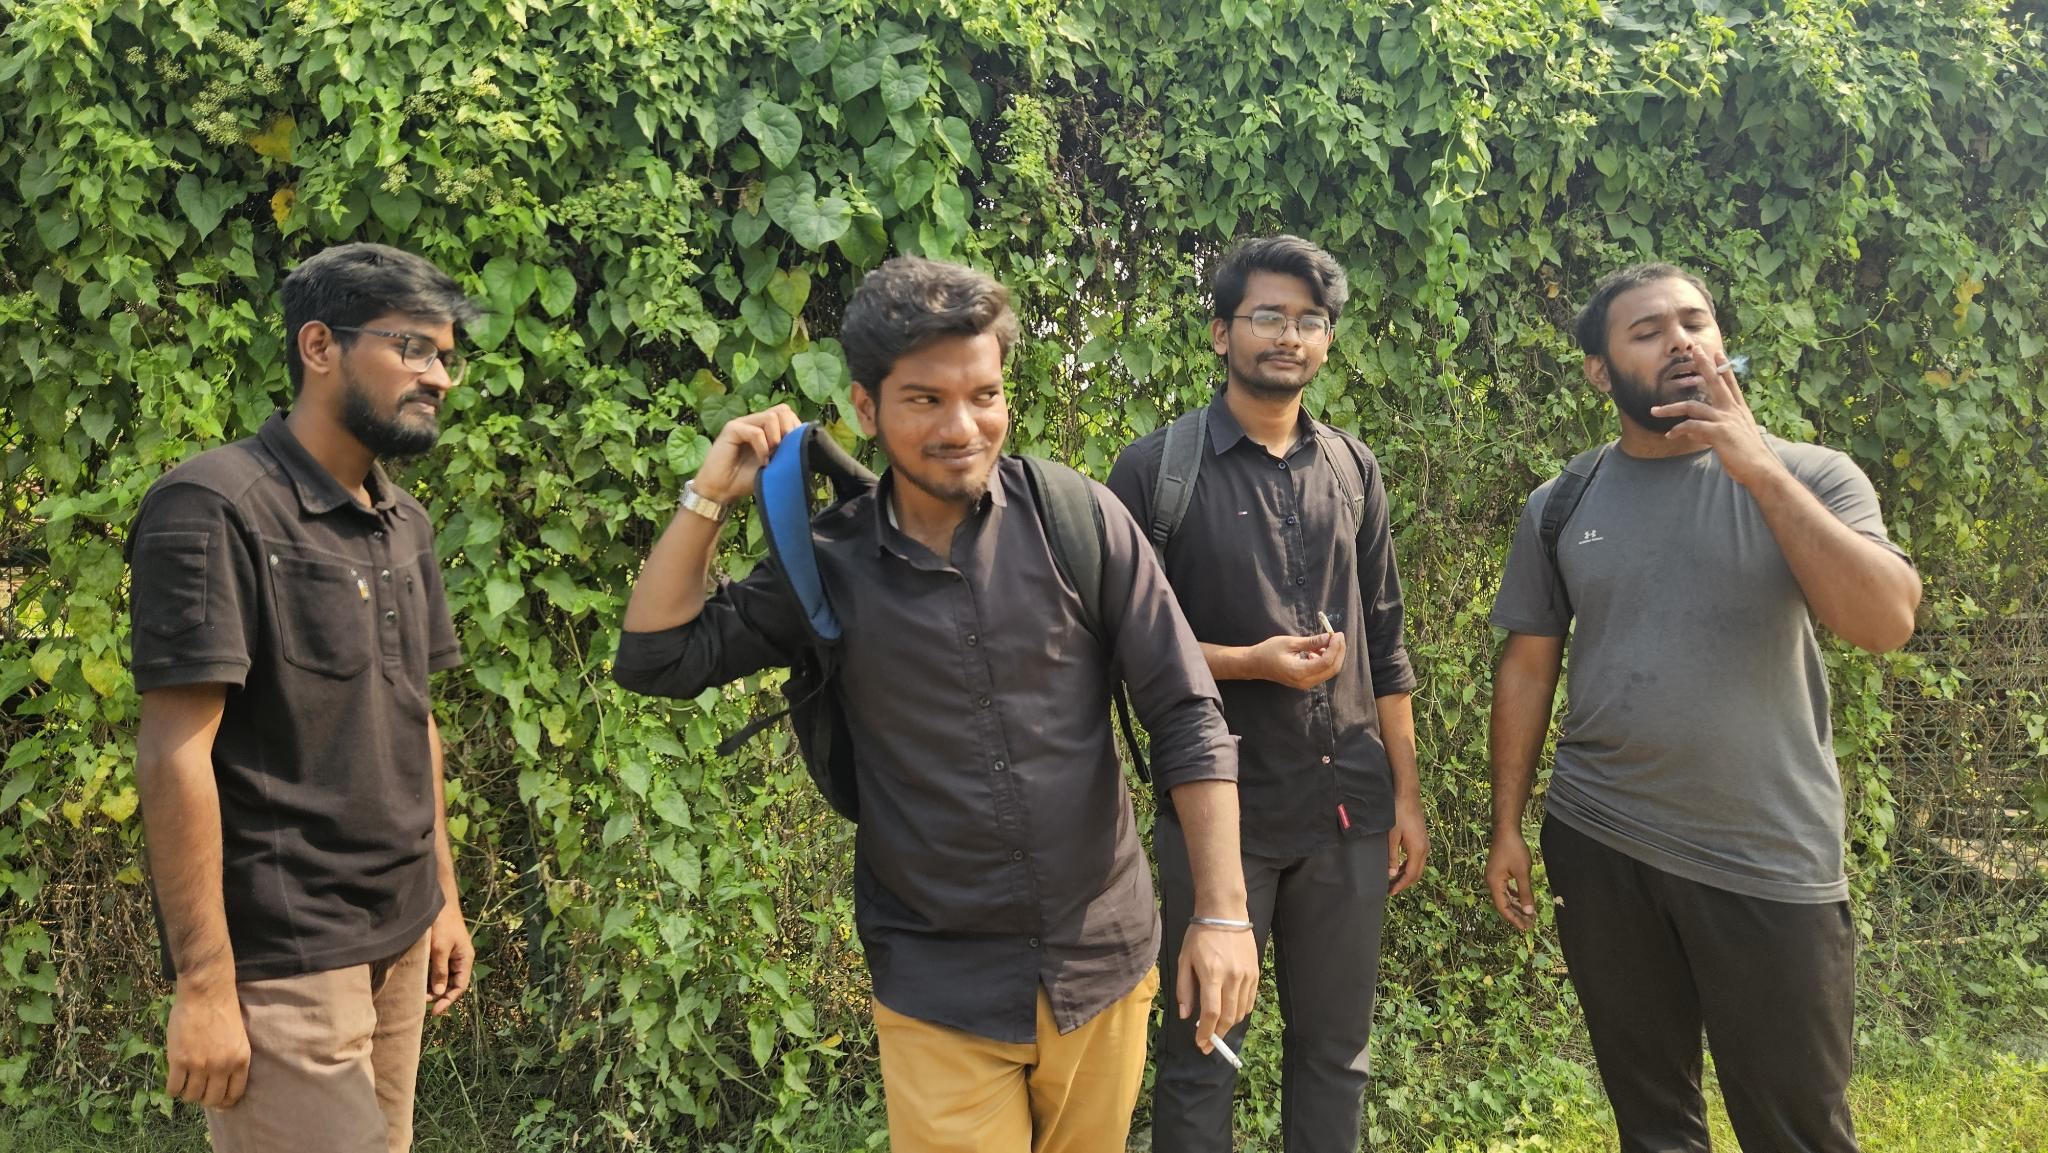cigarette: (1207, 1031, 1245, 1071), (1310, 607, 1340, 638), (1715, 360, 1739, 375)
nonSmoker: (122, 243, 475, 1153)
smoker: (610, 255, 1260, 1153), (1484, 263, 1923, 1153), (1107, 235, 1431, 1153)
